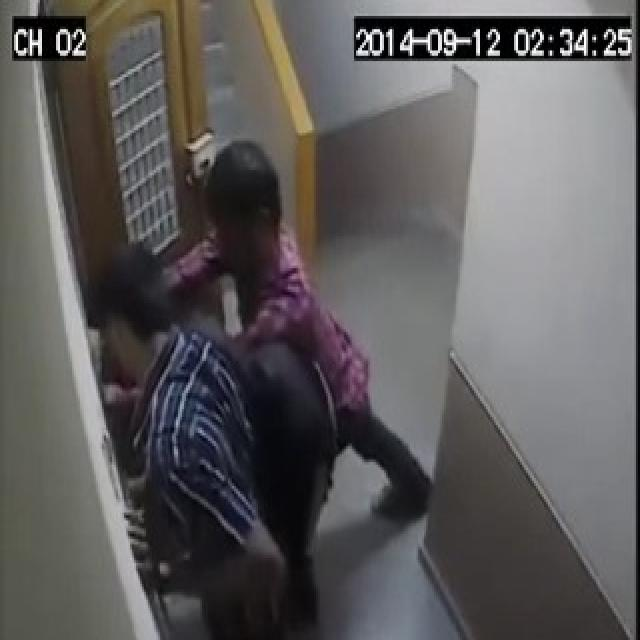thief: (98, 137, 342, 631)
